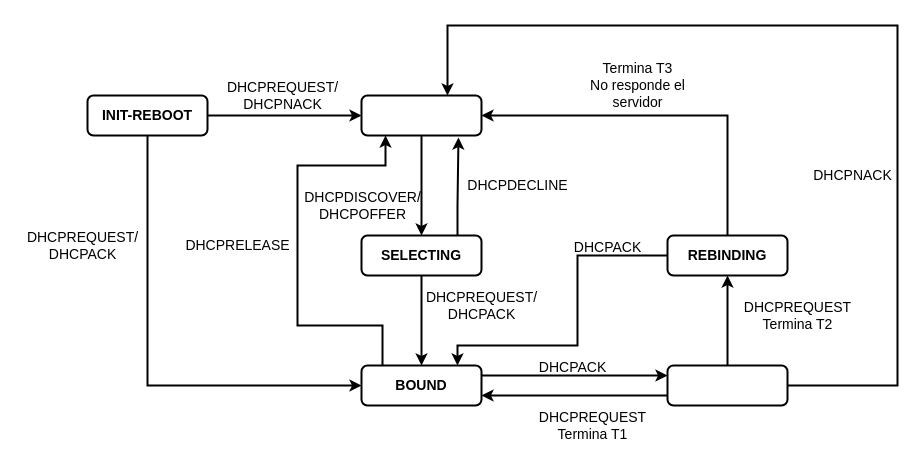
Image size: 923x462. Some labels were removed from this diagram. The shapes that lost their labels are listed below. From the top down, each one's centre as x and y in pixels, then its label:
At pixel 421 115: "INIT".
At pixel 727 385: "RENEWING".
